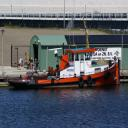tugboat: (7, 44, 122, 91)
